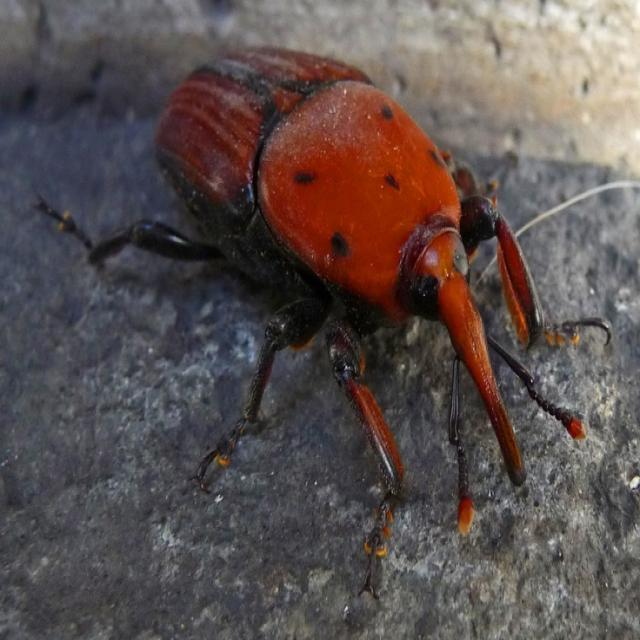Red-palm-weevil: (143, 36, 542, 458)
